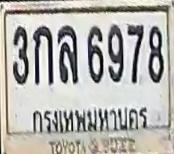3: (12, 25, 28, 84)
6: (86, 25, 103, 82)
7: (127, 24, 144, 80)
8: (147, 25, 163, 82)
9: (107, 24, 124, 82)
A01: (33, 26, 53, 84)
A36: (57, 24, 79, 85)
BKK: (27, 103, 152, 137)
